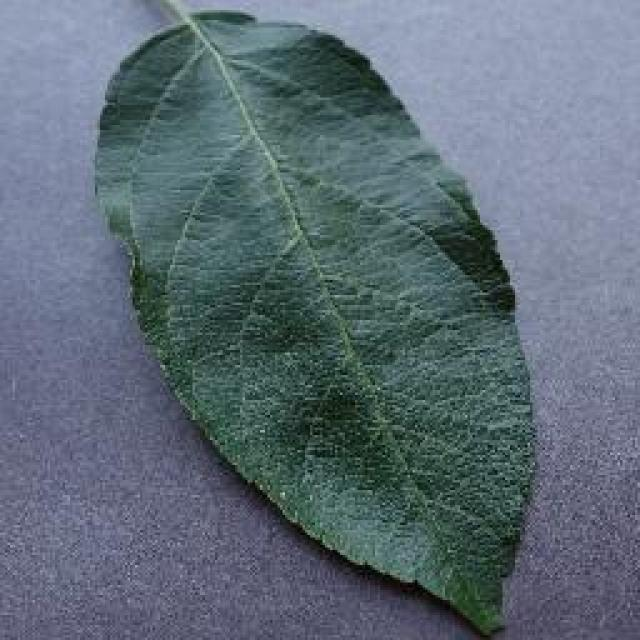apple healthy: (90, 0, 538, 635)
